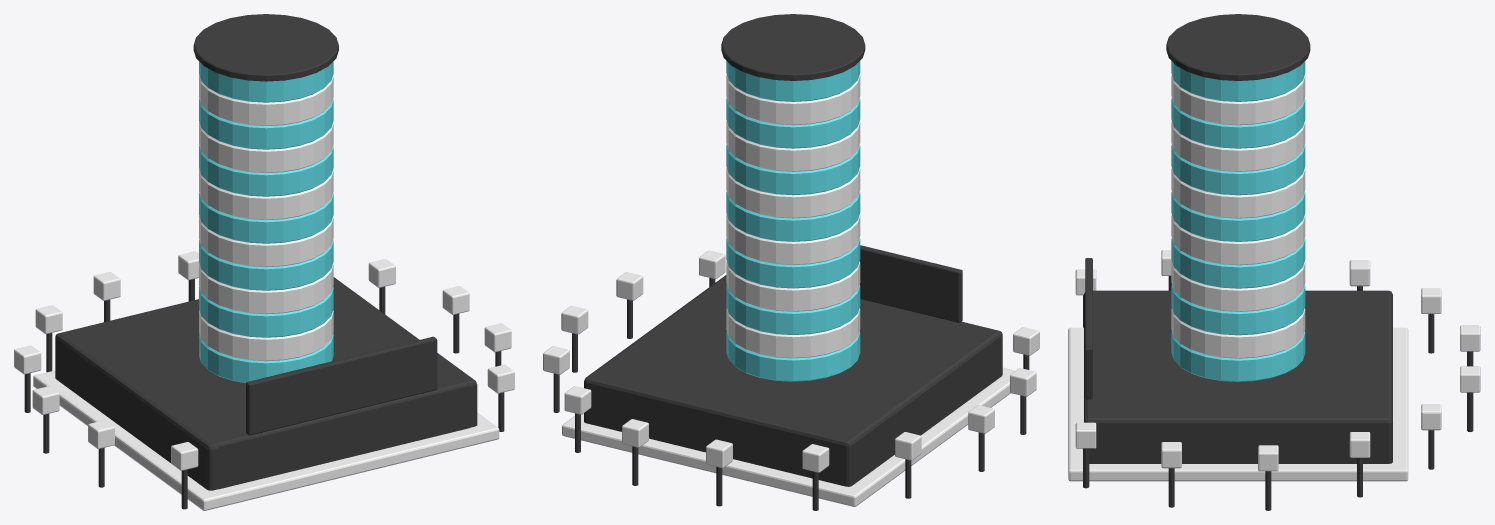
The model's file is stake.glb.
3 renders of one model, left to right at view 1: azimuth 30°, elevation 25°; view 2: azimuth 150°, elevation 25°; view 3: azimuth 270°, elevation 25°, orthographic.
Visible parts, largest first — view 1: plinth, face_rewards, plinth_step, column_cap, sign_board, coin_06, coin_08, coin_04, coin_02, coin_10, coin_05, coin_11 (+17 smaller); view 2: plinth, plinth_step, column_cap, sign_back, coin_02, coin_11, coin_01, coin_05, coin_10, coin_03, coin_07, coin_08 (+17 smaller); view 3: plinth, plinth_step, column_cap, coin_06, coin_03, coin_09, coin_05, coin_08, coin_11, column, coin_02, coin_04 (+14 smaller).
Part boxes in pixels (<box>): plinth: <box>55,277,477,490</box>; face_rewards: <box>218,386,470,489</box>; plinth_step: <box>33,370,499,510</box>; column_cap: <box>193,14,338,81</box>; sign_board: <box>254,345,433,430</box>; coin_06: <box>199,193,333,243</box>; coin_08: <box>199,146,333,196</box>; coin_04: <box>199,240,333,290</box>; coin_02: <box>199,287,333,337</box>; coin_10: <box>199,99,333,149</box>; coin_05: <box>199,216,333,267</box>; coin_11: <box>199,75,333,125</box>; plinth: <box>584,275,1002,486</box>; plinth_step: <box>562,367,1015,506</box>; column_cap: <box>721,14,865,80</box>; sign_back: <box>860,245,962,322</box>; coin_02: <box>726,284,860,334</box>; coin_11: <box>726,74,860,125</box>; coin_01: <box>726,308,860,358</box>; coin_05: <box>726,214,860,265</box>; coin_10: <box>726,98,860,148</box>; coin_03: <box>726,261,860,311</box>; coin_07: <box>726,168,860,218</box>; coin_08: <box>726,144,860,195</box>; plinth: <box>1084,290,1392,463</box>; plinth_step: <box>1068,327,1408,481</box>; column_cap: <box>1166,14,1310,80</box>; coin_06: <box>1171,191,1305,241</box>; coin_03: <box>1171,261,1305,311</box>; coin_09: <box>1171,121,1305,171</box>; coin_05: <box>1171,215,1305,265</box>; coin_08: <box>1171,145,1305,195</box>; coin_11: <box>1171,75,1305,125</box>; column: <box>1171,331,1305,381</box>; coin_02: <box>1171,285,1305,335</box>; coin_04: <box>1171,238,1305,288</box>.
Size of the model in its own units: 9.53 by 7.85 by 8.
